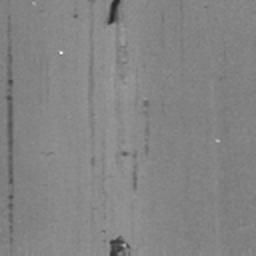Slag inclusion: (4, 93, 17, 186), (6, 17, 17, 88), (104, 0, 124, 28), (108, 237, 131, 256), (8, 202, 14, 242), (132, 172, 138, 195), (142, 100, 150, 108), (72, 10, 79, 18)
